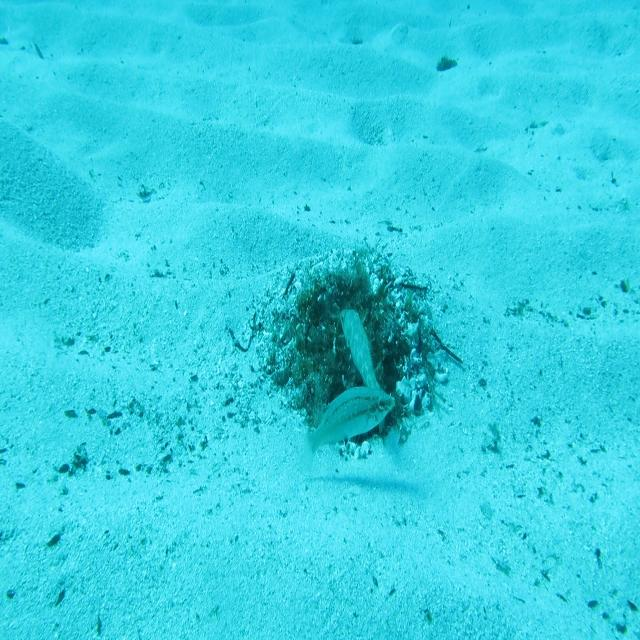vegetation: (435, 54, 459, 73)
